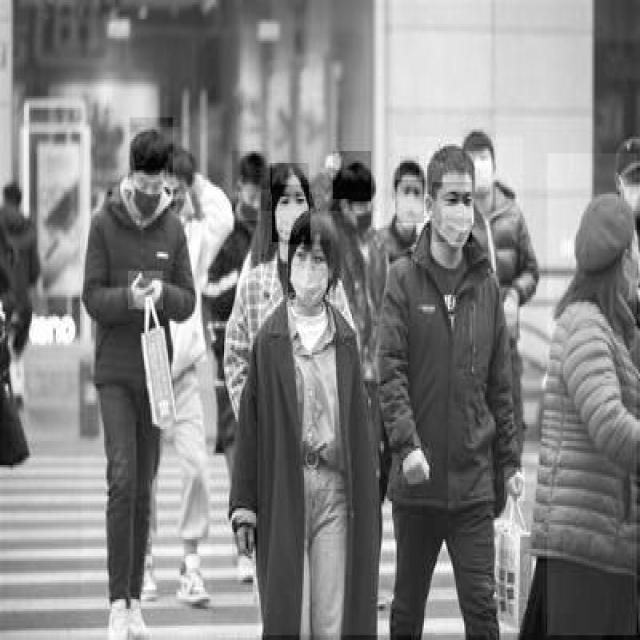face_mask: (288, 240, 330, 307), (432, 182, 474, 245), (272, 184, 310, 244), (130, 170, 164, 218), (395, 180, 426, 225), (466, 146, 492, 194), (238, 184, 262, 223), (620, 170, 638, 221), (349, 194, 373, 230)
hand_noglove: (128, 271, 163, 309), (232, 518, 258, 568), (402, 448, 432, 487), (504, 468, 526, 503)
head_nohelmet: (130, 117, 174, 180), (284, 204, 338, 254), (333, 151, 373, 201), (427, 151, 474, 192), (232, 151, 272, 192), (270, 163, 310, 197), (462, 129, 493, 163), (400, 156, 421, 194)
person: (81, 127, 212, 638), (394, 137, 524, 638), (258, 211, 380, 638), (548, 153, 638, 638)
shoes: (173, 550, 208, 608), (102, 589, 127, 640), (126, 594, 152, 640)
